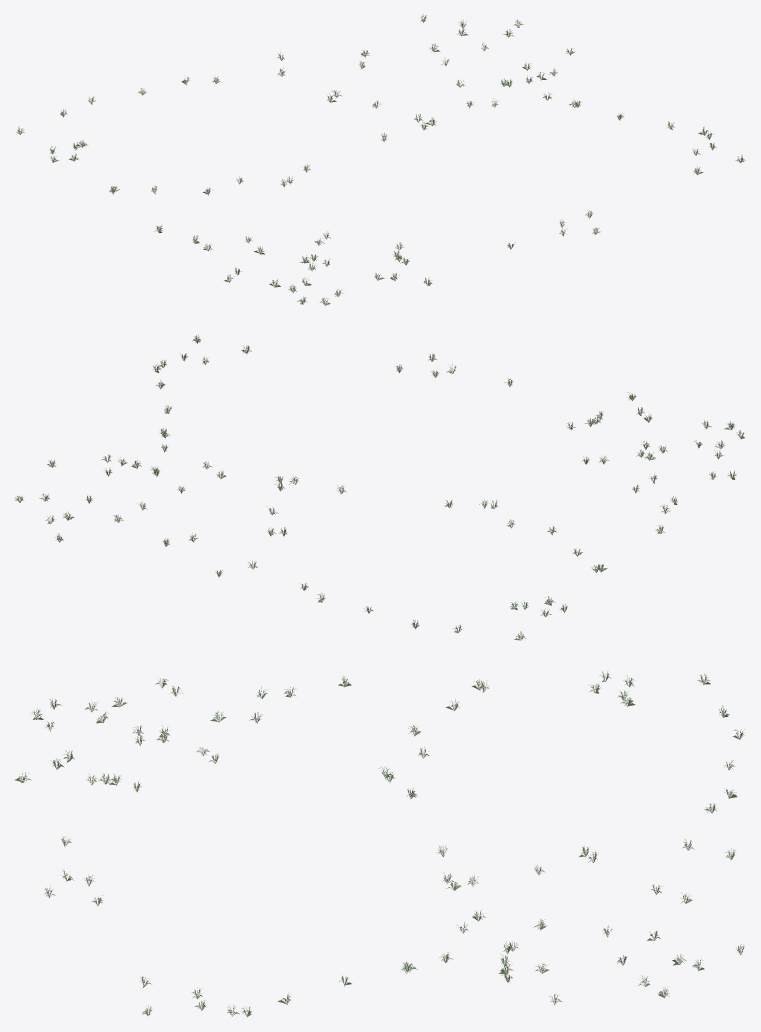
Rendered from xiyuan-vegetation-36-medium.glb.
3 views of the same model, one above another, from view 1: azimuth 30°, elevation 25°; view 2: azimuth 150°, elevation 25°; view 3: azimuth 270°, elevation 25° (orthographic). The views are drawn at different scales.
Visible parts, largest first — view 1: mondo grass.001; view 2: mondo grass.001; view 3: mondo grass.001.
Part boxes in pixels (left/top/right/bottom): mondo grass.001: left=16, top=14, right=745, bottom=305; mondo grass.001: left=15, top=334, right=744, bottom=640; mondo grass.001: left=14, top=670, right=745, bottom=1016.
Size of the model in its own units: 32.76 by 0.4858 by 29.8.
